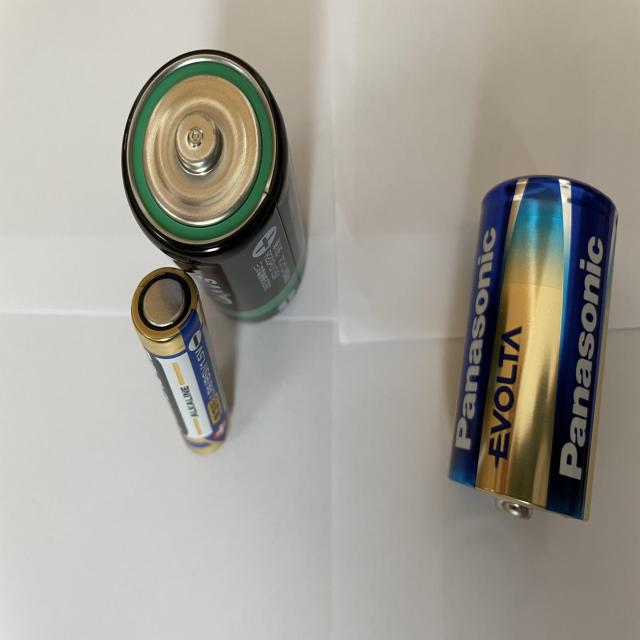AA: (131, 267, 229, 459)
